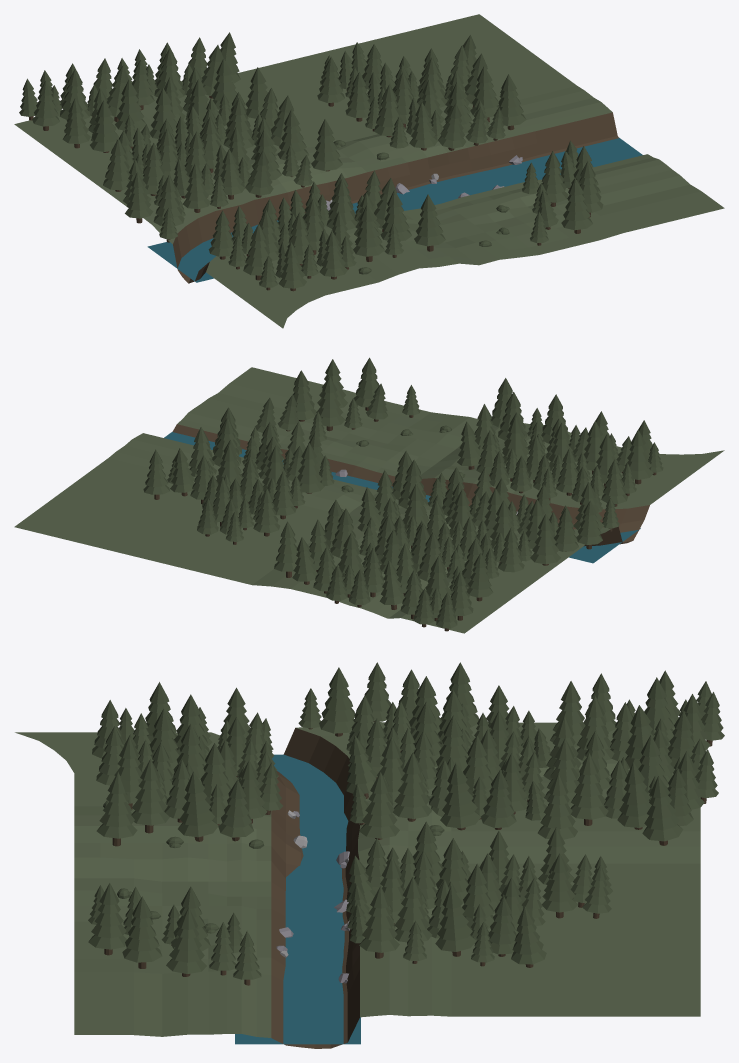
Rendered from Bridge_Scene.fbx.
The picture shows the model from 3 angles, top to bottom: view 1: azimuth 30°, elevation 25°; view 2: azimuth 150°, elevation 25°; view 3: azimuth 270°, elevation 25°; orthographic projection. The views are drawn at different scales.
Visible parts, largest first — view 1: ground, water1, tree28, tree16, tree93, tree55, tree127, tree147, tree77, tree116, tree94, tree46 (+45 smaller); view 2: ground, water1, tree127, tree94, tree74, tree116, tree171, tree93, tree98, tree91, tree165, tree172 (+59 smaller); view 3: ground, water1, tree99, tree28, tree63, tree77, tree19, tree5, tree171, tree135, tree93, tree30 (+73 smaller).
Part boxes in pixels (<box>): ground: <box>14,14,724,328</box>; water1: <box>147,138,642,282</box>; tree28: <box>414,194,445,251</box>; tree16: <box>353,205,384,261</box>; tree93: <box>561,178,592,233</box>; tree55: <box>311,119,342,171</box>; tree127: <box>103,138,130,191</box>; tree147: <box>90,100,119,152</box>; tree77: <box>496,74,526,130</box>; tree116: <box>243,224,274,280</box>; tree94: <box>541,151,568,206</box>; tree46: <box>277,109,308,160</box>; ground: <box>14,367,724,633</box>; water1: <box>164,432,640,563</box>; tree127: <box>530,514,560,565</box>; tree94: <box>316,376,344,431</box>; tree74: <box>297,442,324,493</box>; tree116: <box>622,429,653,484</box>; tree171: <box>274,521,298,577</box>; tree93: <box>354,357,379,410</box>; tree98: <box>293,370,316,421</box>; tree91: <box>143,449,170,499</box>; tree165: <box>253,488,280,536</box>; tree172: <box>576,500,602,549</box>; ground: <box>15,721,700,1048</box>; water1: <box>235,754,360,1044</box>; tree99: <box>122,896,162,968</box>; tree28: <box>96,772,137,846</box>; tree63: <box>435,886,476,956</box>; tree77: <box>359,886,399,958</box>; tree19: <box>131,759,169,833</box>; tree5: <box>178,771,218,841</box>; tree171: <box>642,776,683,845</box>; tree135: <box>570,753,608,825</box>; tree93: <box>88,883,126,955</box>; tree30: <box>440,763,480,830</box>.
Bounding box in the file's own units: 77.54 × 14.05 × 78.07.
